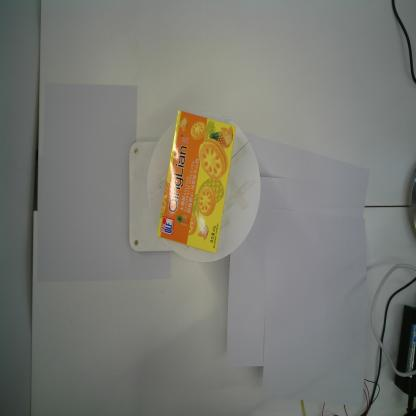Dessert: (156, 107, 237, 255)
